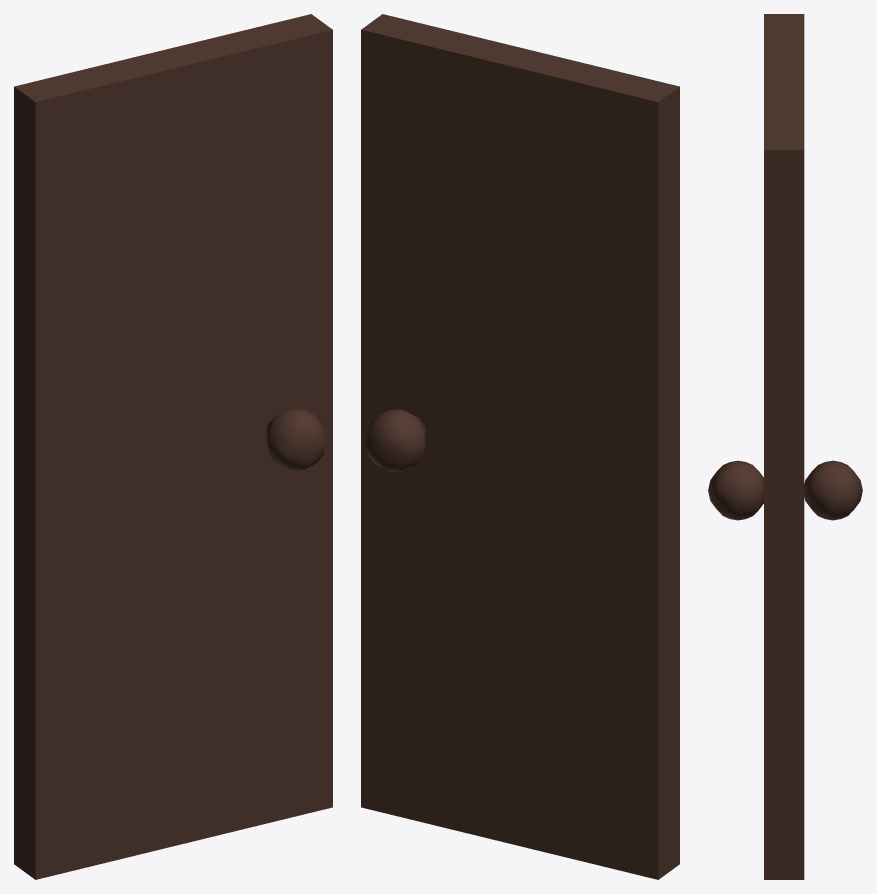
Rendered from Door.glb.
The picture shows the model from 3 angles, left to right: view 1: azimuth 30°, elevation 25°; view 2: azimuth 150°, elevation 25°; view 3: azimuth 270°, elevation 25°; orthographic projection. The views are drawn at different scales.
Parts seen in each view (by area): view 1: Door; view 2: Door; view 3: Door.
Boxes of the visible parts, x1,y1,x2,y2 form: Door: (14, 14, 332, 879); Door: (361, 14, 679, 879); Door: (708, 14, 862, 879).
Size of the model in its own units: 0.8 by 2 by 0.3845.
